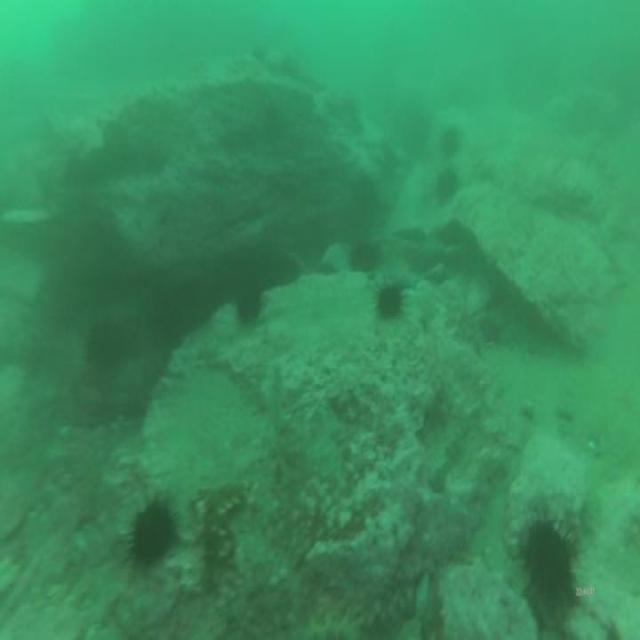echinus: (514, 504, 578, 629), (127, 488, 176, 576), (81, 315, 131, 376), (235, 267, 265, 329), (374, 276, 407, 324), (348, 234, 382, 278), (434, 164, 460, 208), (440, 121, 466, 162)
holothurian: (195, 476, 254, 566)
